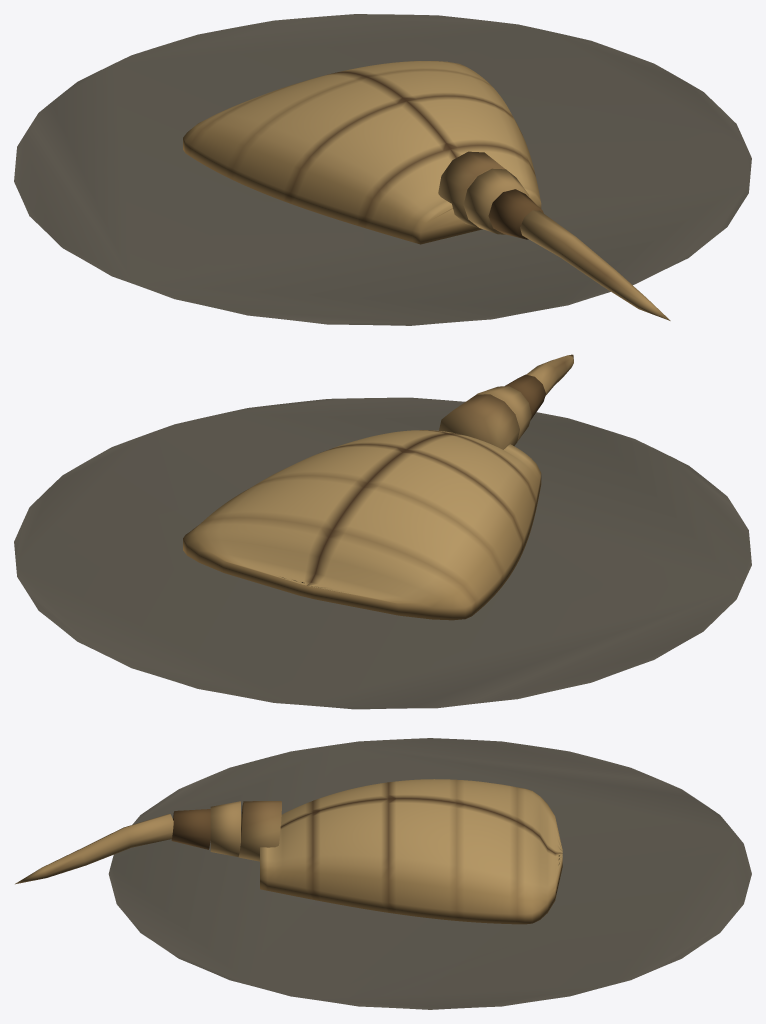
The model's file is MitrocystitesMitra.fbx.
3 views of the same model, one above another, from view 1: azimuth 30°, elevation 25°; view 2: azimuth 150°, elevation 25°; view 3: azimuth 270°, elevation 25° (orthographic). The views are drawn at different scales.
Parts seen in each view (by area): view 1: MitrocystitesMitra; view 2: MitrocystitesMitra; view 3: MitrocystitesMitra.
Boxes of the visible parts, left/top/right/bottom form: MitrocystitesMitra: left=14, top=14, right=751, bottom=325; MitrocystitesMitra: left=14, top=354, right=751, bottom=709; MitrocystitesMitra: left=15, top=738, right=751, bottom=1009.
Size of the model in its own units: 1.7 by 0.22 by 1.95.
